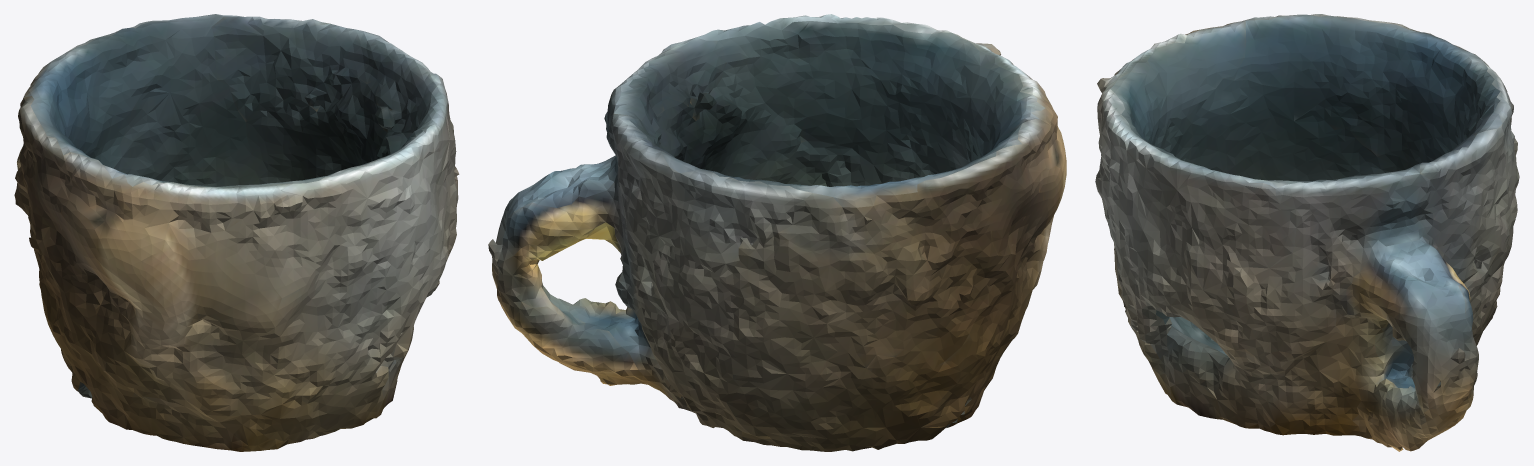
3 renders of one model, left to right at view 1: azimuth 30°, elevation 25°; view 2: azimuth 150°, elevation 25°; view 3: azimuth 270°, elevation 25°, orthographic. The views are drawn at different scales.
Bounding box in the file's own units: 0.1394 × 0.0829 × 0.1171.
1 material, 1 textured.
